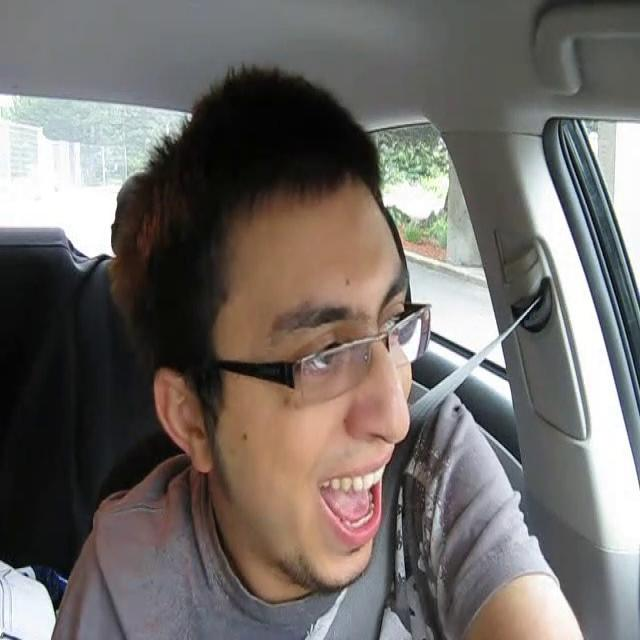open: (312, 450, 399, 550)
